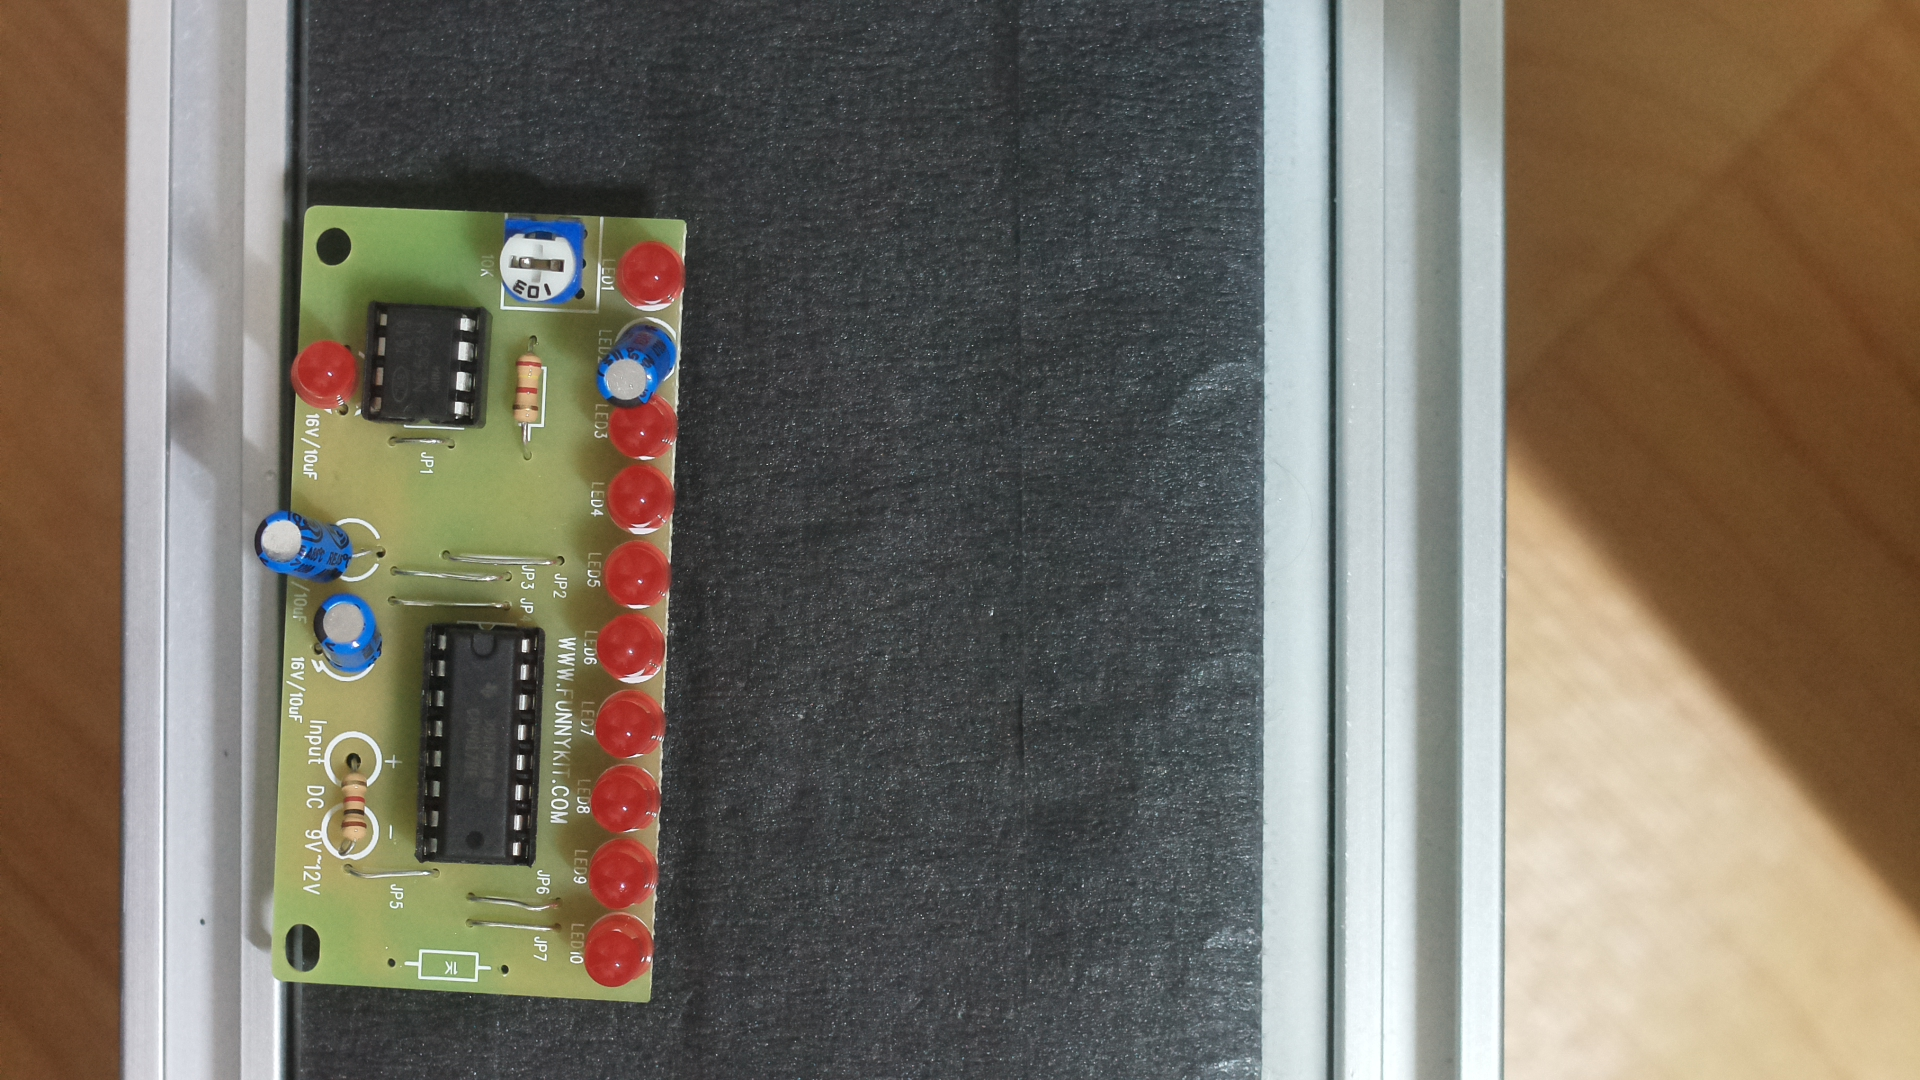B_Misordered: (231, 183, 731, 1019)
